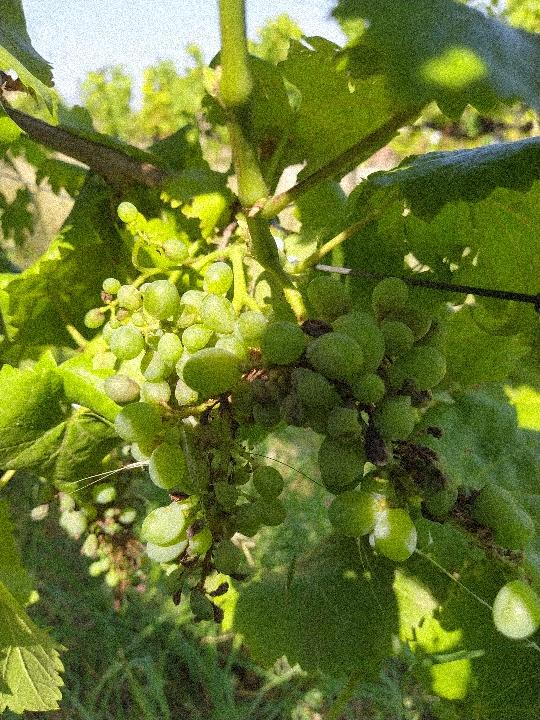grape: (102, 249, 536, 643)
